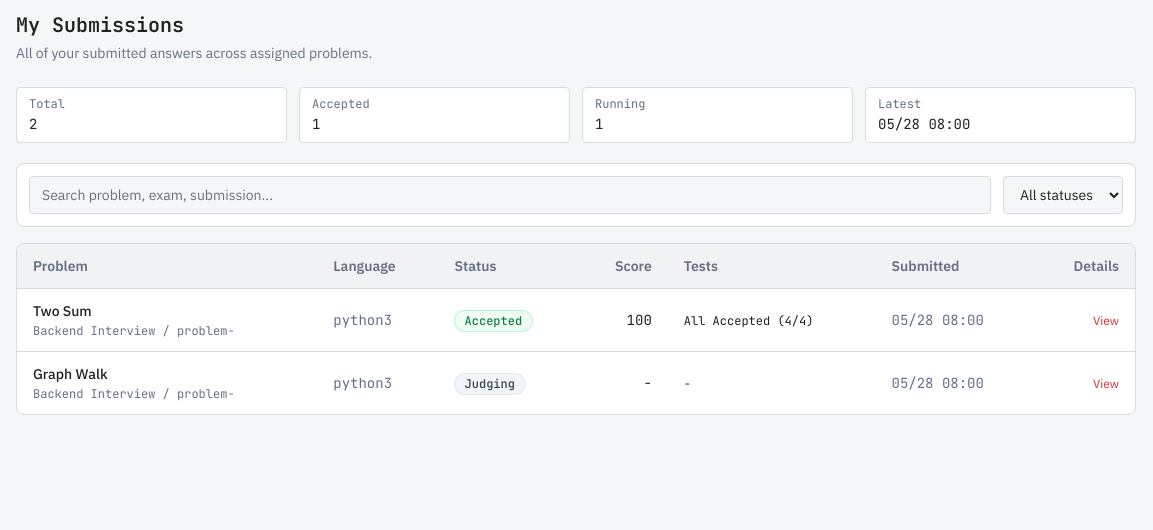
SubmissionsPage › renders summary cards and filters by search text
Expected: the text "Two Sum" is shown, [33, 302, 92, 320]
Expected: the text "Total" is shown, [29, 96, 65, 112]
Hover over the element showing "All Accepted (4/4)".
mouse_move(749, 320)  # box [684, 310, 813, 330]
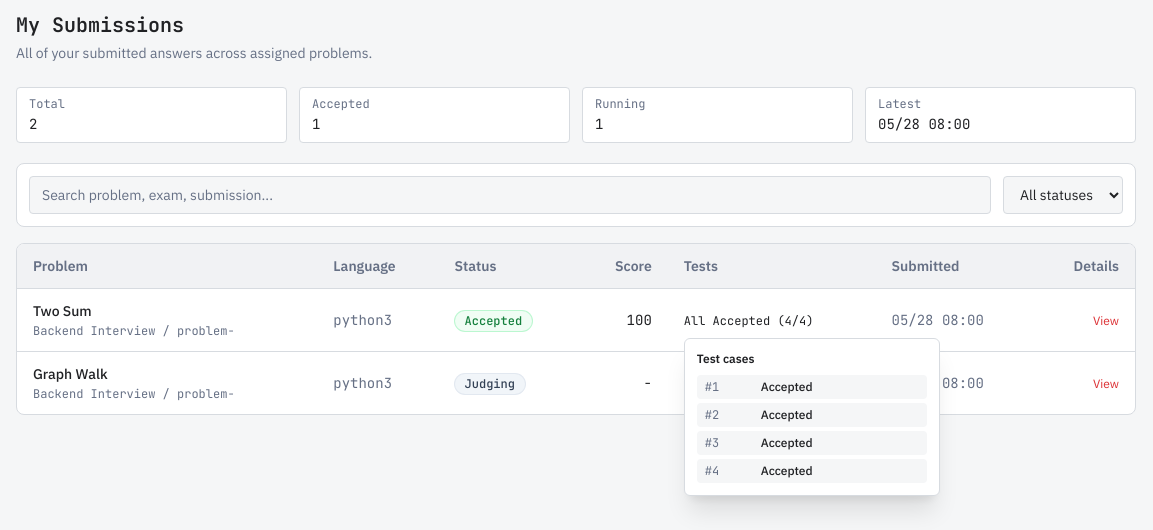
Expected: the text "Graph Walk" is shown, [33, 365, 108, 383]
Now the text "#1" is shown, box [705, 379, 719, 395]
Type "graph" into the field with placeholder "Search problem, exam, submission...".
click(510, 195); type("graph")  # box [29, 176, 991, 214]
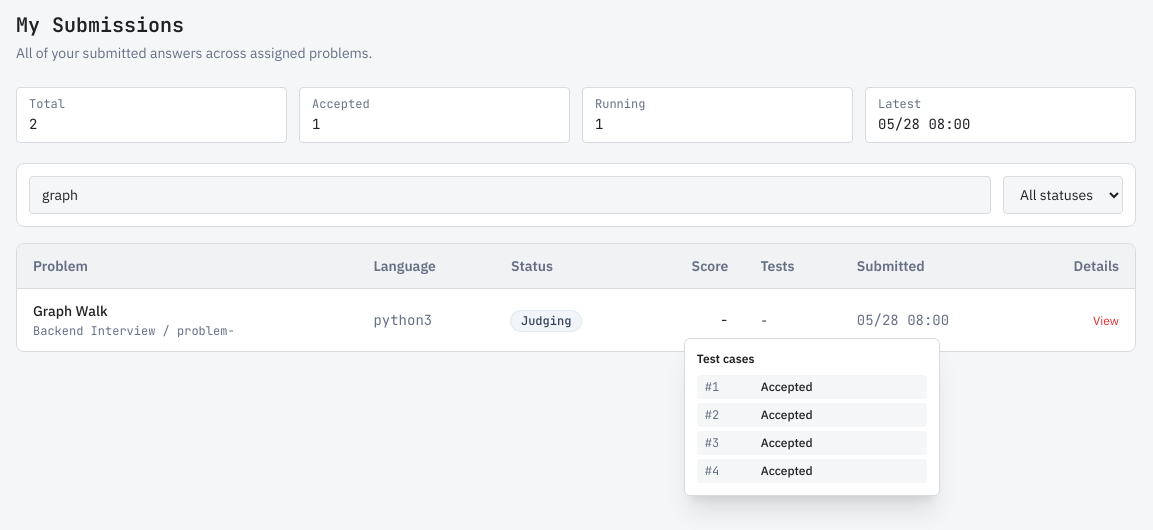
Expected: the text "Graph Walk" is shown, [33, 302, 108, 320]
Now the text "Two Sum" is gone
